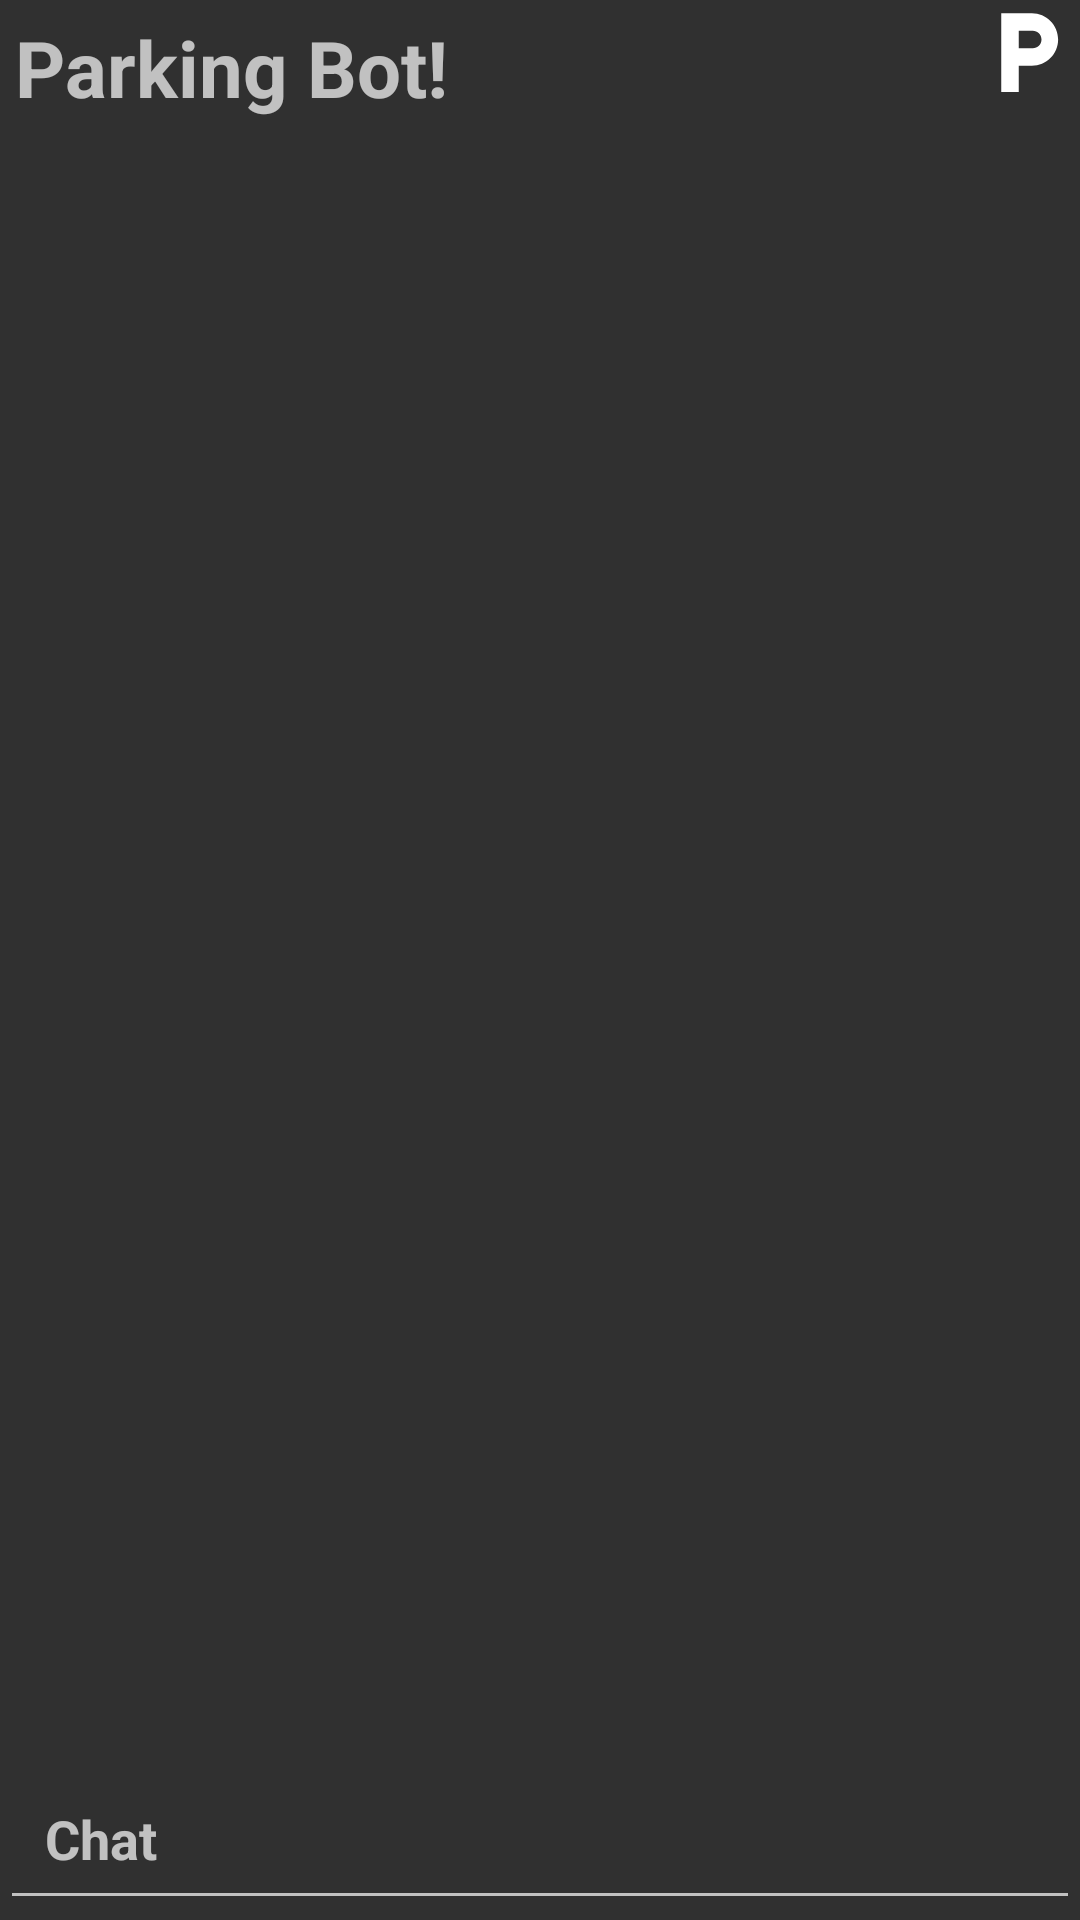

Where to tap for icons on this 1080 × 1920 app screen, as point (x, y):
parking: point (1029, 52)
